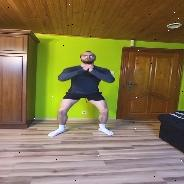squats: (49, 39, 122, 142)
